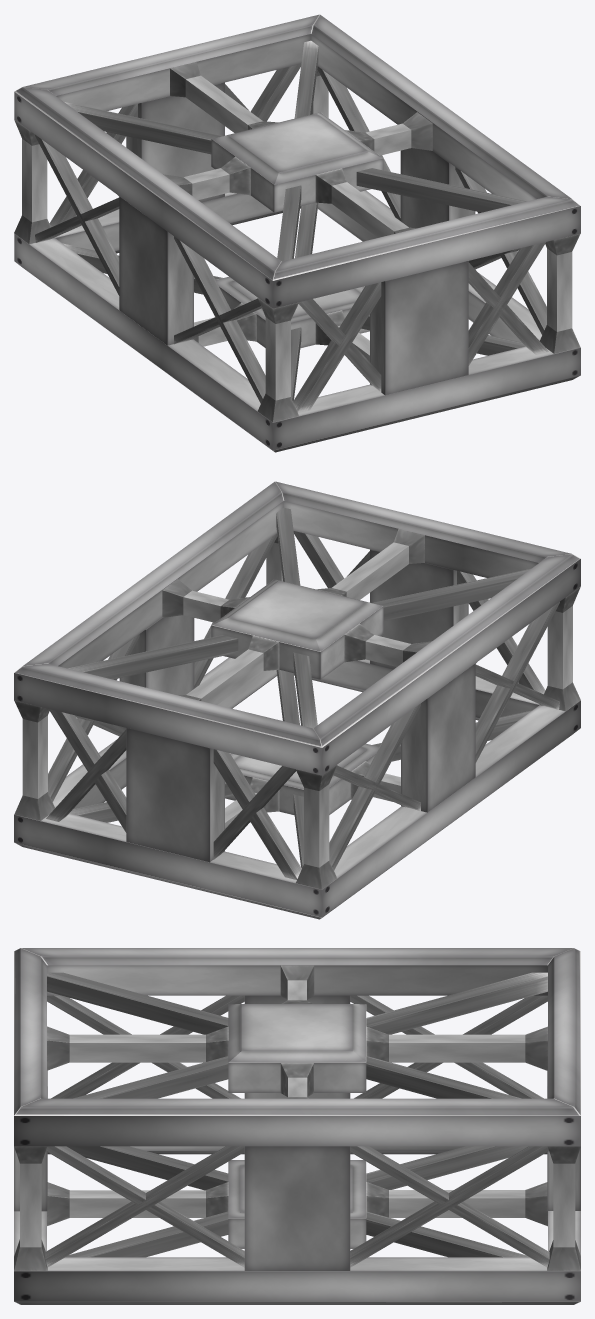
File: ThunderboltChassis.FBX
3 renders of one model, top to bottom at view 1: azimuth 30°, elevation 25°; view 2: azimuth 150°, elevation 25°; view 3: azimuth 270°, elevation 25°, orthographic. The views are drawn at different scales.
Parts seen in each view (by area): view 1: Frame001, Frame002, SideHardpoint002, TopHardpoint001, SideHardpoint001, Bracing017, SideHardpoint004, Pilar002, Pilar004, SideHardpoint003, Bracing003, Pilar005 (+21 smaller); view 2: Frame001, Frame002, SideHardpoint004, TopHardpoint001, SideHardpoint001, Bracing025, SideHardpoint002, Pilar001, Pilar003, SideHardpoint003, Pilar007, Bracing001 (+21 smaller); view 3: Frame001, Frame002, SideHardpoint003, TopHardpoint001, Bracing017, Bracing025, Pilar007, Pilar005, Bracing026, Bracing027, Pilar011, Pilar010 (+16 smaller).
Boxes of the visible parts, x1=… form: Frame001: x1=14, y1=14, x2=580, y2=308; Frame002: x1=14, y1=190, x2=580, y2=452; SideHardpoint002: x1=370, y1=261, x2=468, y2=395; TopHardpoint001: x1=211, y1=112, x2=383, y2=212; SideHardpoint001: x1=119, y1=196, x2=193, y2=345; Bracing017: x1=64, y1=102, x2=527, y2=212; SideHardpoint004: x1=126, y1=82, x2=224, y2=202; Pilar002: x1=257, y1=298, x2=298, y2=422; Pilar004: x1=540, y1=233, x2=580, y2=353; SideHardpoint003: x1=400, y1=148, x2=475, y2=228; Bracing003: x1=174, y1=236, x2=265, y2=403; Pilar005: x1=170, y1=62, x2=278, y2=132; Frame001: x1=14, y1=481, x2=580, y2=775; Frame002: x1=14, y1=657, x2=580, y2=919; SideHardpoint004: x1=126, y1=728, x2=224, y2=862; TopHardpoint001: x1=211, y1=579, x2=383, y2=679; SideHardpoint001: x1=401, y1=663, x2=475, y2=812; Bracing025: x1=68, y1=569, x2=530, y2=679; SideHardpoint002: x1=370, y1=549, x2=468, y2=669; Pilar001: x1=296, y1=765, x2=337, y2=889; Pilar003: x1=14, y1=700, x2=54, y2=820; SideHardpoint003: x1=119, y1=615, x2=194, y2=695; Pilar007: x1=316, y1=529, x2=424, y2=599; Bracing001: x1=329, y1=703, x2=420, y2=870; Frame001: x1=14, y1=948, x2=580, y2=1146; Frame002: x1=14, y1=1146, x2=580, y2=1304; SideHardpoint003: x1=244, y1=1146, x2=350, y2=1270; TopHardpoint001: x1=228, y1=1004, x2=366, y2=1092; Bracing017: x1=73, y1=972, x2=547, y2=1098; Bracing025: x1=47, y1=972, x2=521, y2=1098; Pilar007: x1=47, y1=1026, x2=228, y2=1070; Pilar005: x1=366, y1=1026, x2=547, y2=1070; Bracing026: x1=66, y1=1146, x2=527, y2=1257; Bracing027: x1=67, y1=1146, x2=528, y2=1257; Pilar011: x1=366, y1=1182, x2=547, y2=1226; Pilar010: x1=47, y1=1182, x2=228, y2=1225.
Size of what is drawn, in the model's own units: 0.5817 by 0.326 by 0.8462.
